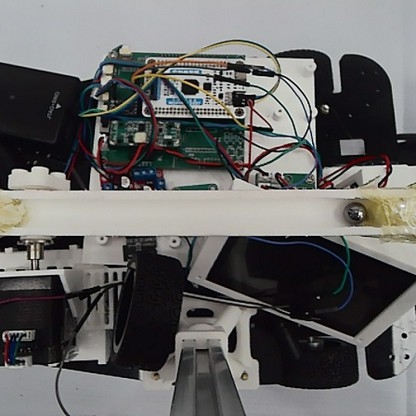ironball: (341, 199, 367, 226)
